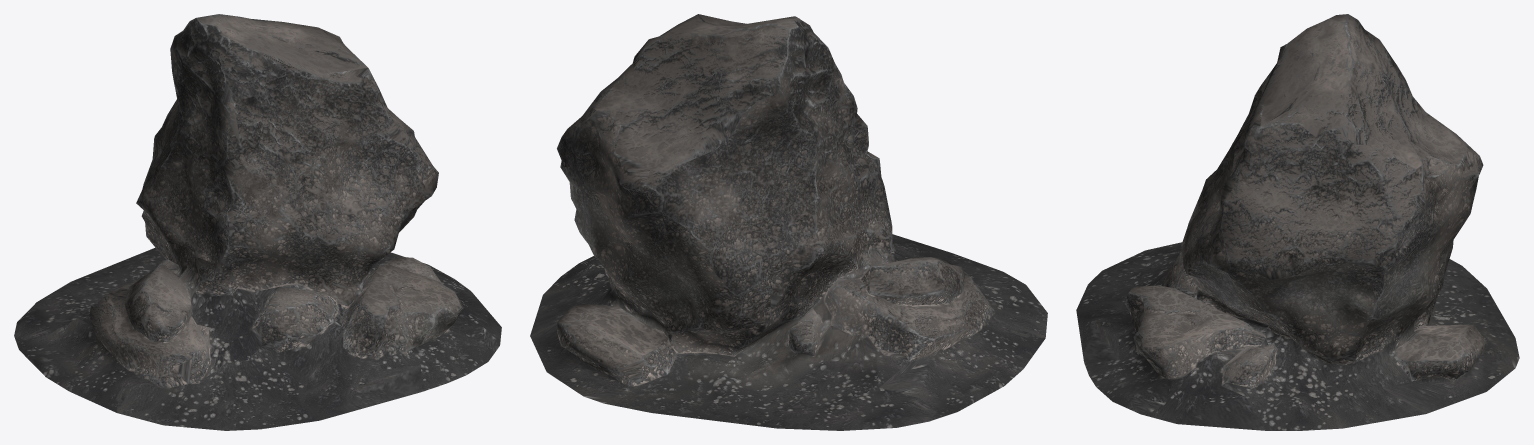
File: Rocks_group_05_GREY.fbx
3 renders of one model, left to right at view 1: azimuth 30°, elevation 25°; view 2: azimuth 150°, elevation 25°; view 3: azimuth 270°, elevation 25°, orthographic. The views are drawn at different scales.
Parts seen in each view (by area): view 1: Rocks_group_05_GREY; view 2: Rocks_group_05_GREY; view 3: Rocks_group_05_GREY.
Boxes of the visible parts, left/top/right/bottom form: Rocks_group_05_GREY: left=14, top=14, right=501, bottom=430; Rocks_group_05_GREY: left=530, top=14, right=1047, bottom=430; Rocks_group_05_GREY: left=1076, top=14, right=1519, bottom=430.
Bounding box in the file's own units: 10.18 × 7.18 × 9.56.
1 material, 1 textured.
